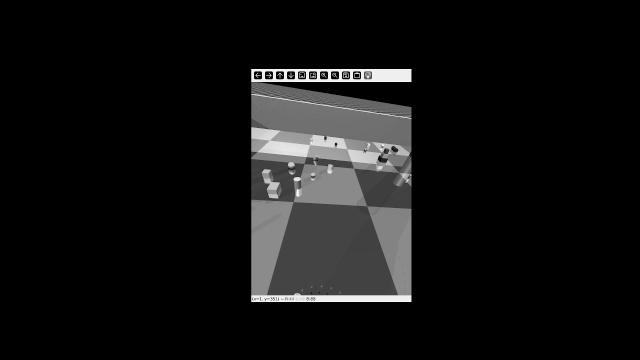cilindro: (291, 177, 303, 189), (311, 154, 321, 163), (405, 171, 413, 181), (391, 145, 400, 153), (327, 164, 335, 172)
cuadrado: (262, 167, 273, 180), (381, 153, 389, 158), (384, 148, 391, 153), (322, 136, 328, 141), (366, 143, 371, 148), (308, 138, 313, 142)
esfera: (288, 161, 295, 170), (309, 171, 316, 179), (379, 144, 386, 148), (334, 142, 339, 146), (363, 148, 368, 151)
rectangulo: (265, 181, 283, 195), (378, 155, 388, 164)
